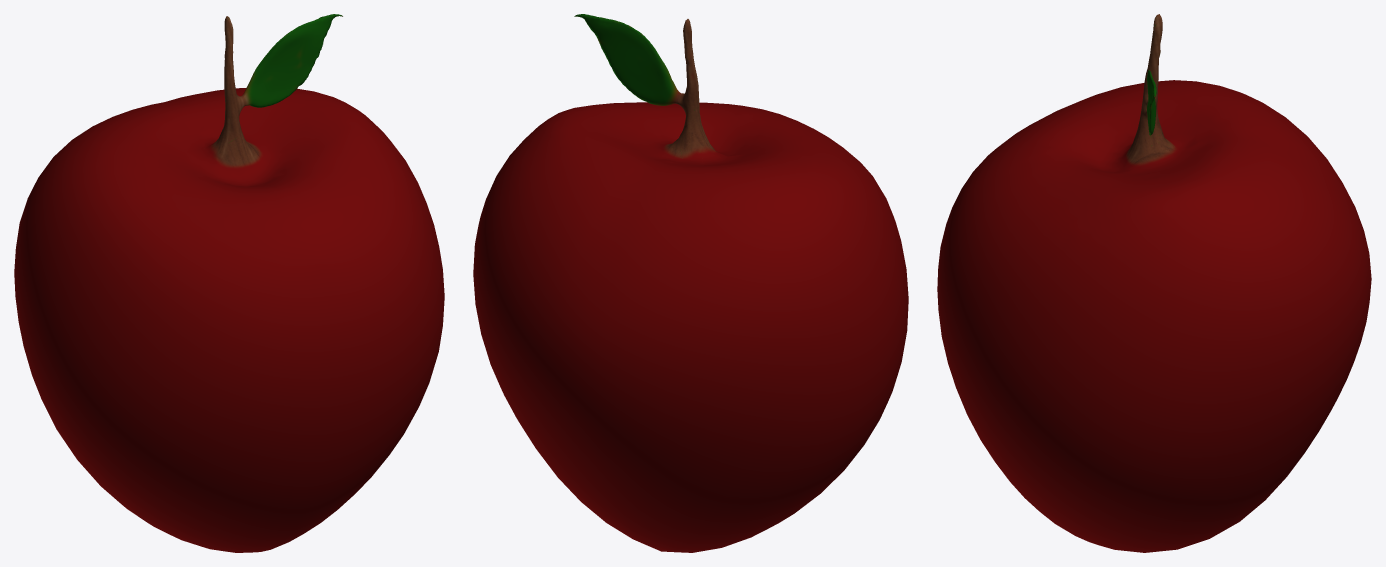
The model's file is TexturedApple.fbx.
3 renders of one model, left to right at view 1: azimuth 30°, elevation 25°; view 2: azimuth 150°, elevation 25°; view 3: azimuth 270°, elevation 25°, orthographic.
Parts seen in each view (by area): view 1: apple.001; view 2: apple.001; view 3: apple.001.
Boxes of the visible parts, left/top/right/bottom form: apple.001: left=14, top=14, right=444, bottom=552; apple.001: left=473, top=14, right=908, bottom=552; apple.001: left=937, top=14, right=1371, bottom=552.
Size of the model in its own units: 503 by 670 by 497.
